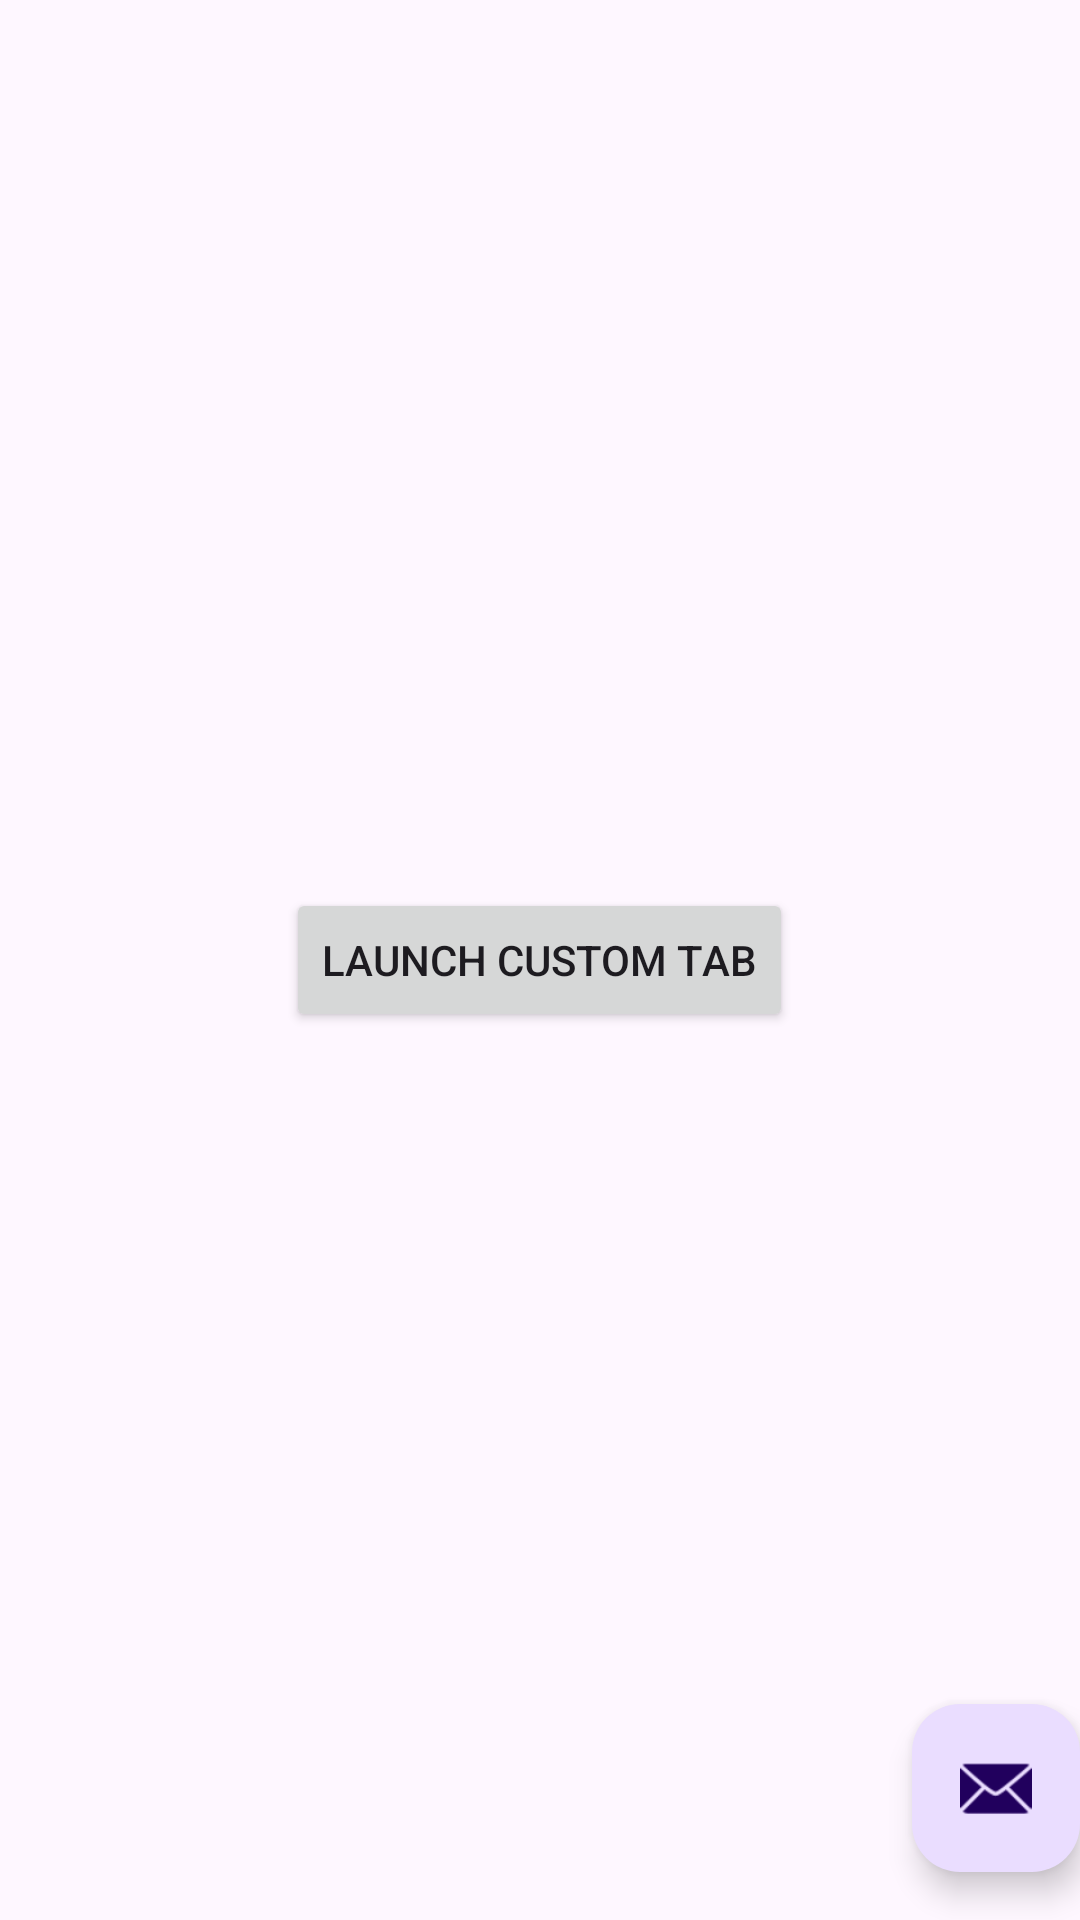

Locate icon controls on the screen. Image size 1080 × 1920, boxes as (x1, y1, x2, y2).
email: (912, 1704, 1080, 1872)
